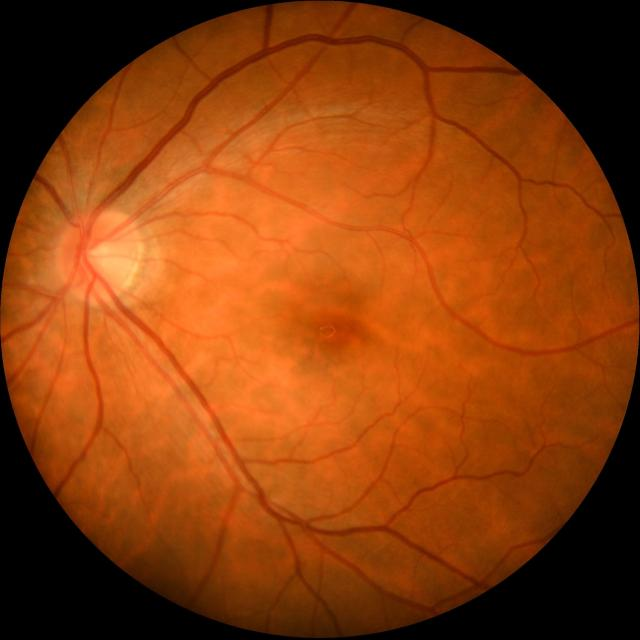OC: (86, 242, 115, 276)
OD: (57, 210, 142, 296)
